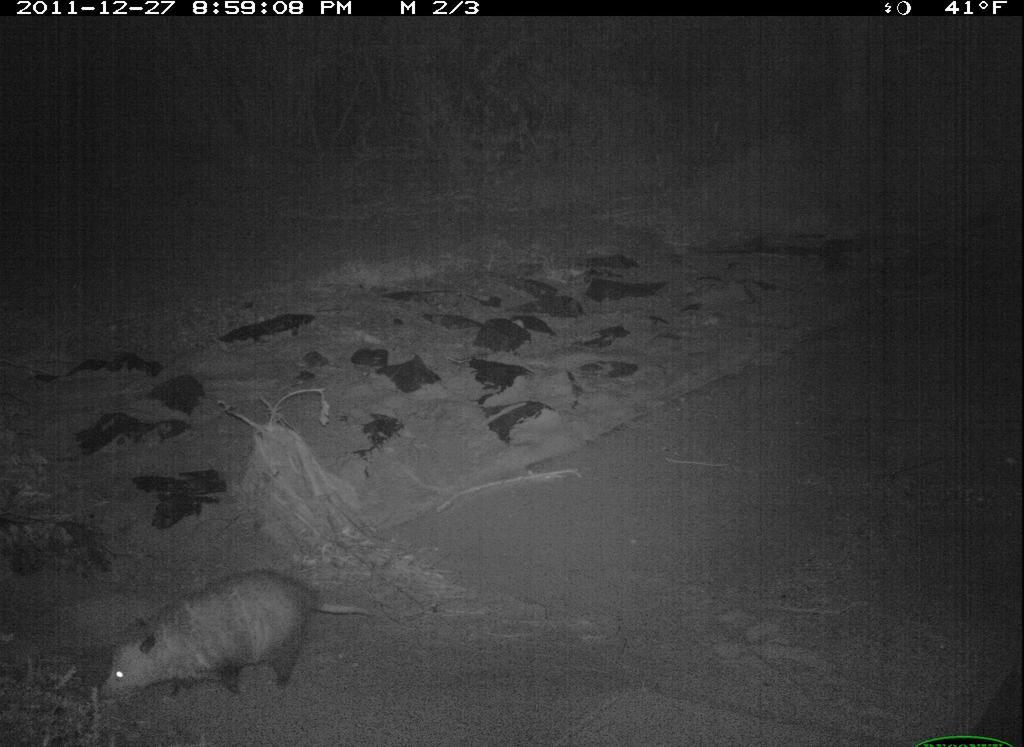opossum: (89, 566, 337, 715)
